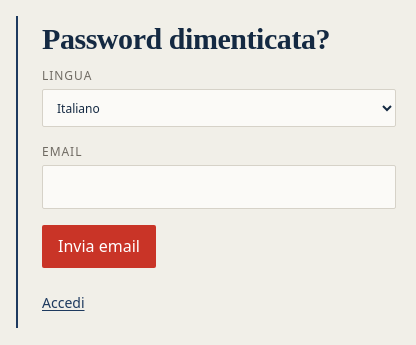
it: gives generic feedback for a password recovery request
The width and height of the screenshot is (416, 345).
Type "missing@example.test" into the field labelled "Email" at (219,187), box [42, 165, 396, 210]
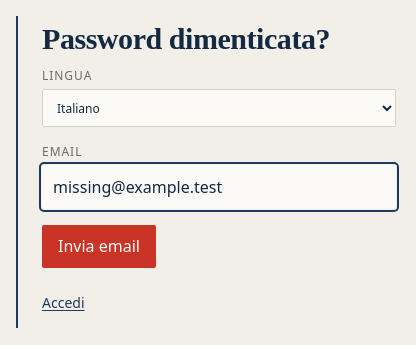
Click the button "Invia email" at (99,247), box [42, 226, 156, 268]
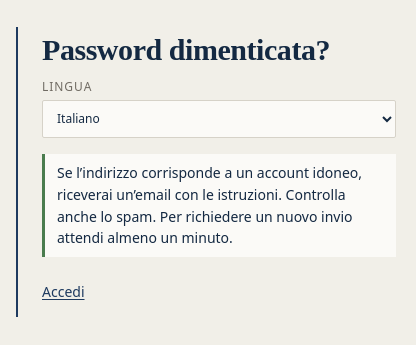
Result: the message shows "Se l’indirizzo corrisponde" at [57, 163, 362, 247]
